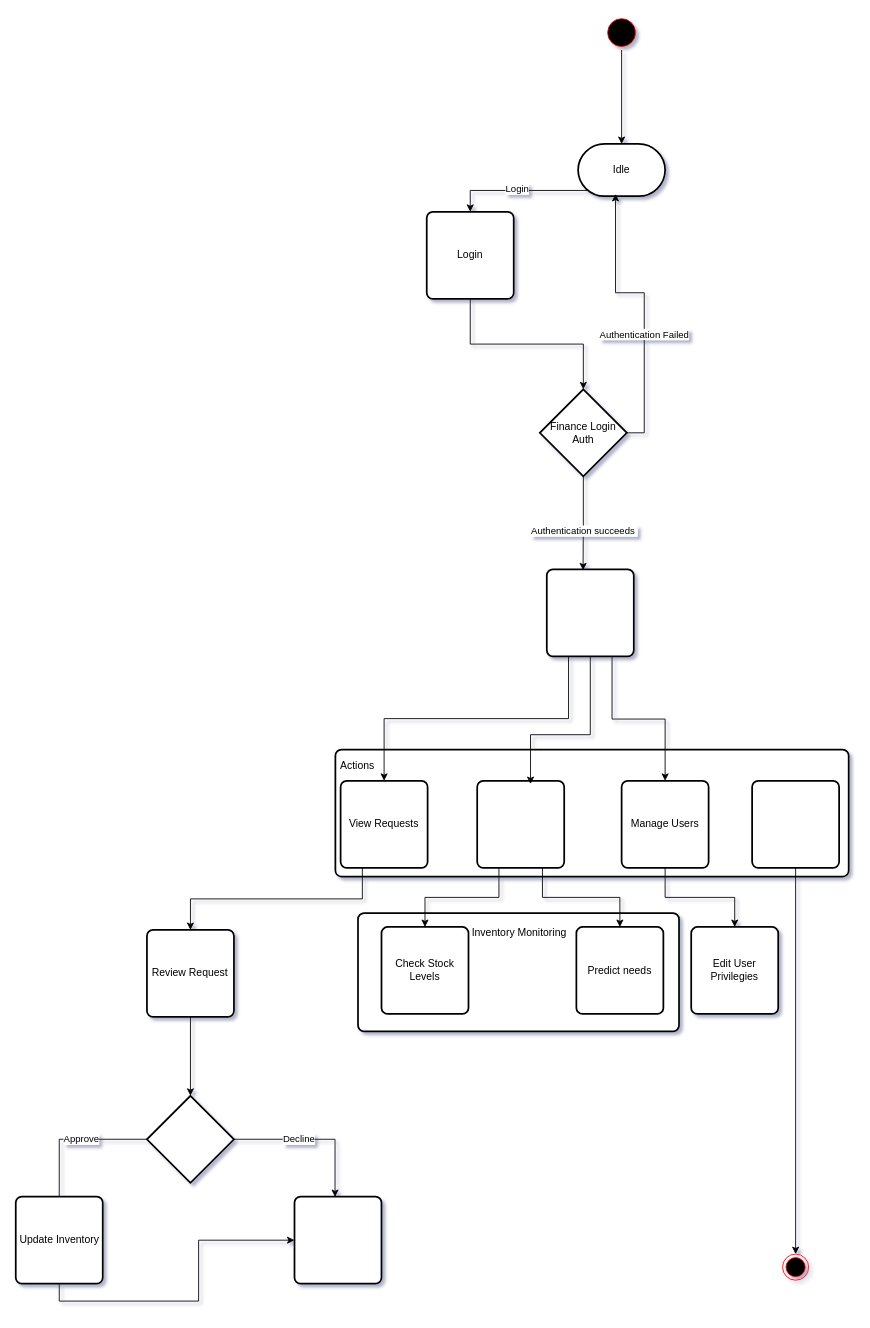
The diagram is 870 pixels wide and 1328 high, and some of its shapes have lost their labels. Here are the shapes that lost their labels. From the top down, the centre of each, then its label:
At point 589,612: "Finance Dashboard".
At point 520,824: "Monitor Inventory".
At point 795,824: "Logout".
At point 190,1138: "Approval".
At point 337,1239: "Notify User".
